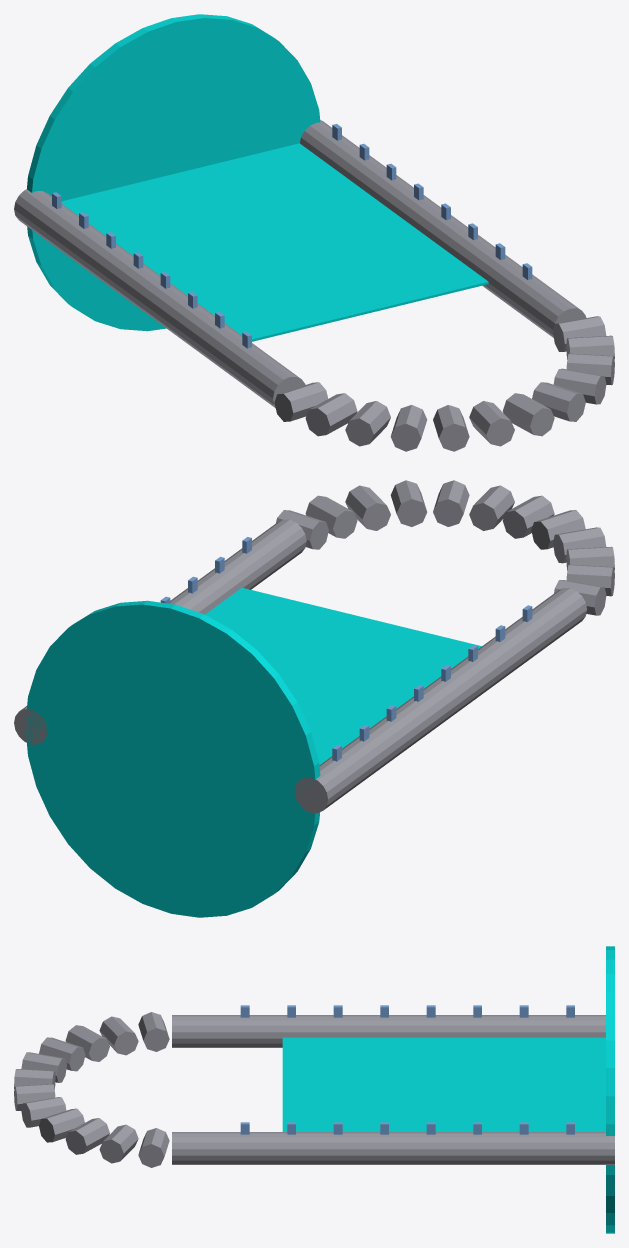
File: magic_gate.glb
The picture shows the model from 3 angles, top to bottom: view 1: azimuth 30°, elevation 25°; view 2: azimuth 150°, elevation 25°; view 3: azimuth 270°, elevation 25°; orthographic projection. The views are drawn at different scales.
Parts seen in each view (by area): view 1: world; view 2: world; view 3: world.
Boxes of the visible parts, x1,y1,x2,y2 form: world: [14, 14, 614, 451]; world: [14, 480, 614, 917]; world: [14, 946, 614, 1233].
Bounding box in the file's own units: 2.85 × 2.6 × 5.43.
